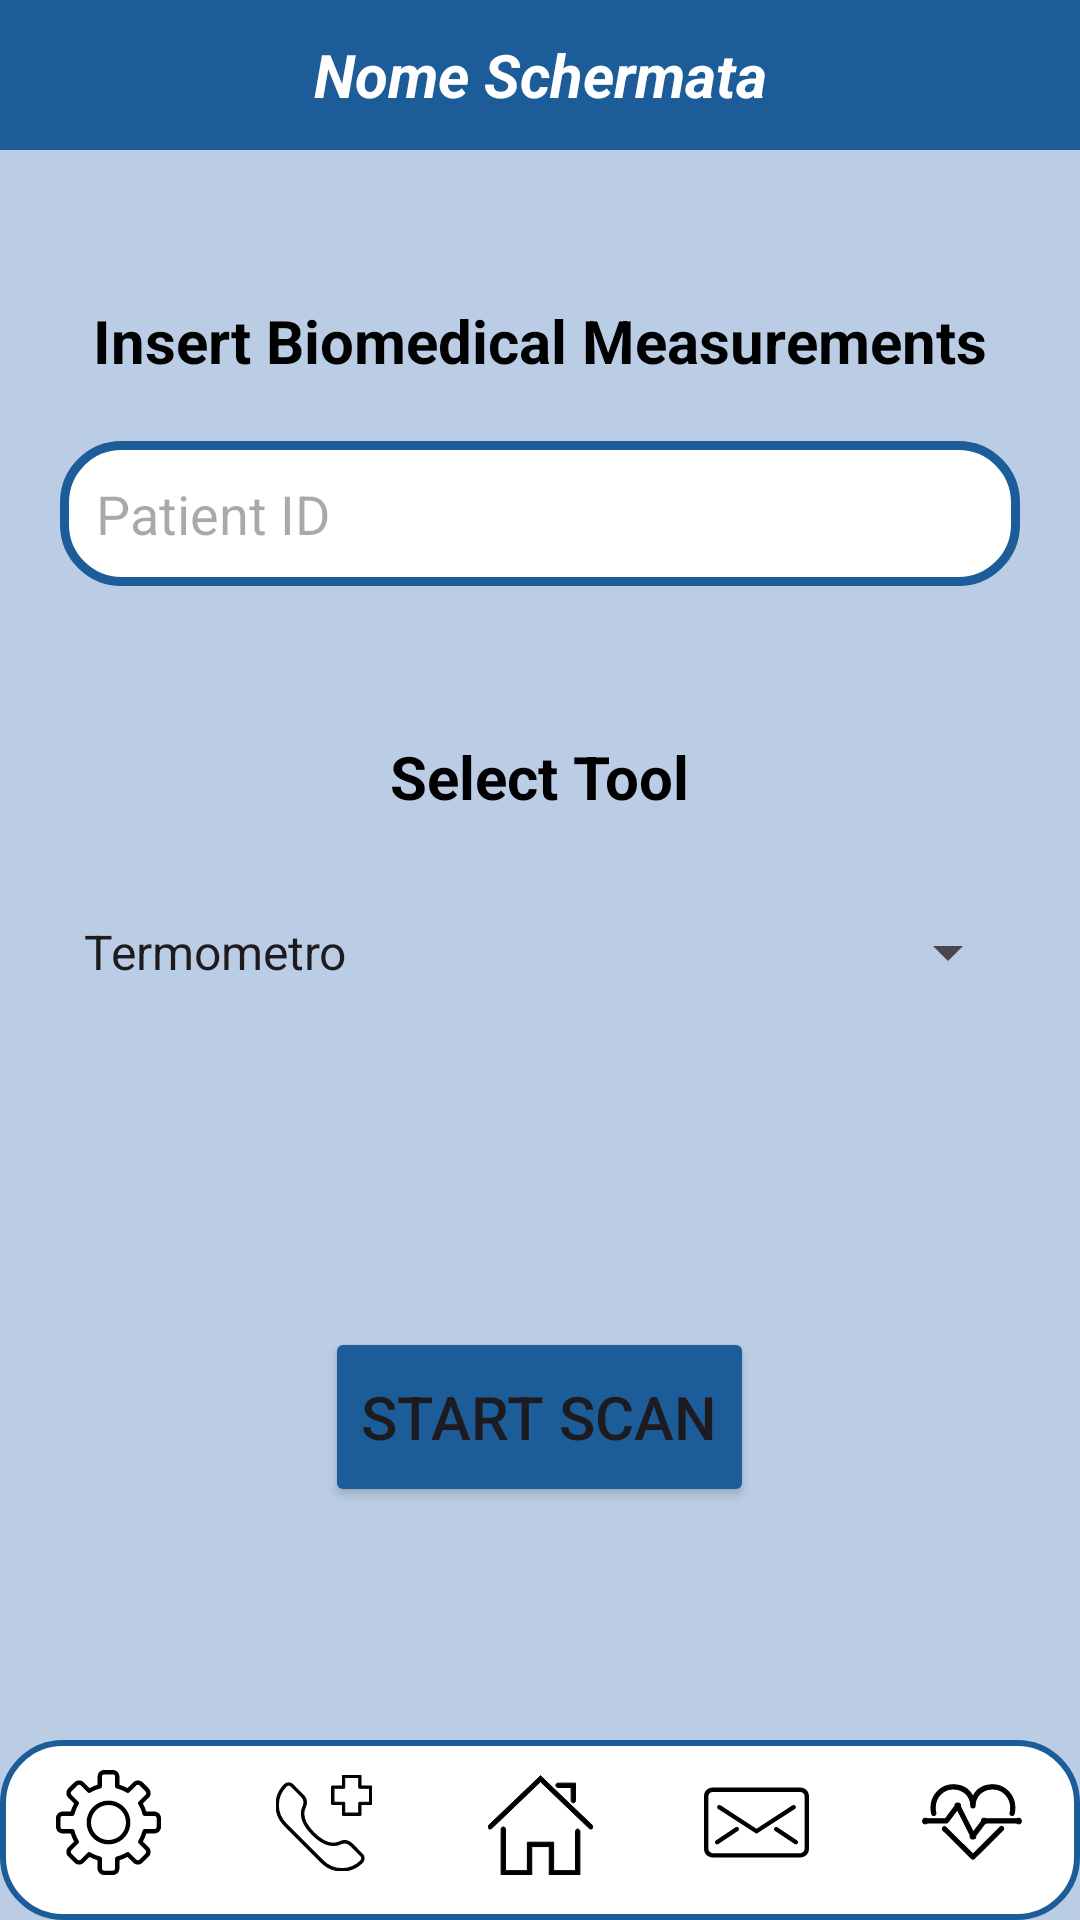

Where to tap for icons on this 1080 × 1920 app screen, as point (x, y):
home: point (540, 1825)
message: point (756, 1822)
misurazioni: point (972, 1822)
setting: point (108, 1822)
sos: point (324, 1823)
